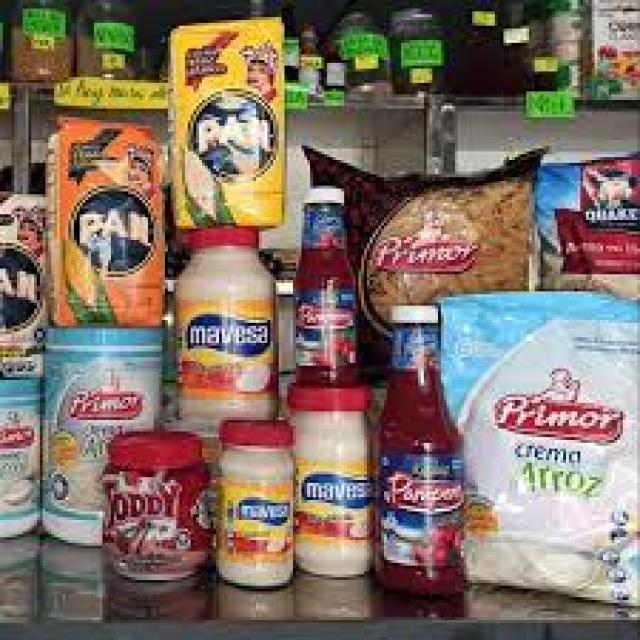Arina_pan: (174, 26, 287, 218), (59, 123, 164, 328)
Margarina: (171, 232, 279, 424), (293, 386, 374, 577), (216, 431, 294, 588)
Pampero: (376, 305, 470, 610), (289, 191, 365, 386)
Toddy: (100, 438, 211, 581)
